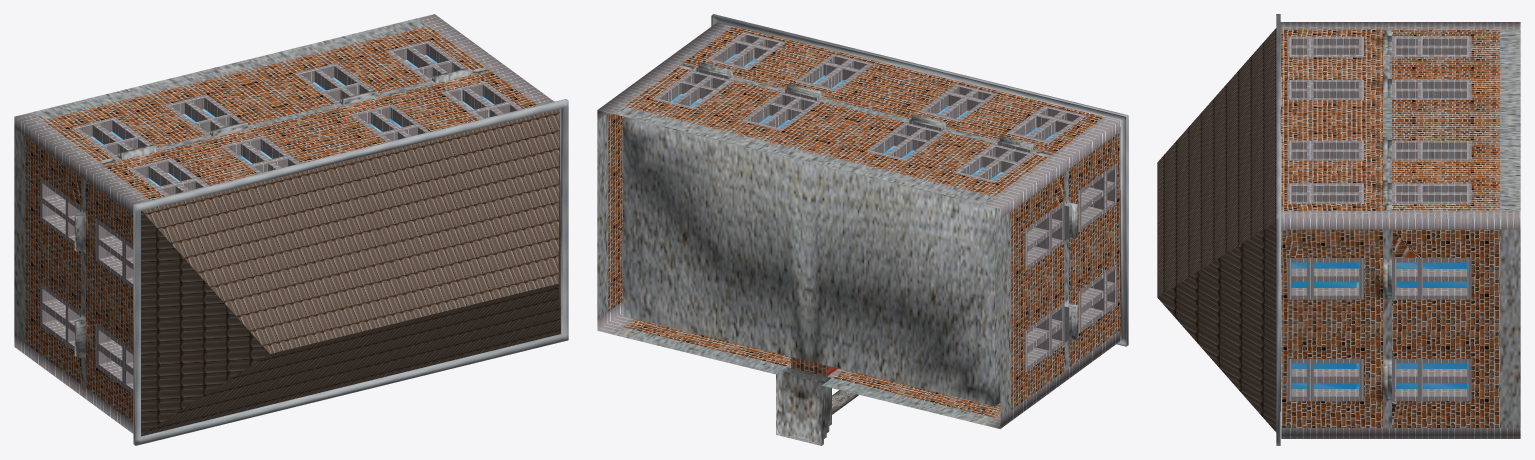
File: house.obj
3 views of the same model, side by side, from view 1: azimuth 30°, elevation 25°; view 2: azimuth 150°, elevation 25°; view 3: azimuth 270°, elevation 25° (orthographic). The views are drawn at different scales.
Visible parts, largest first — view 1: Plane; view 2: Plane; view 3: Plane.
Boxes of the visible parts, x1,y1,x2,y2 form: Plane: [14, 14, 568, 445]; Plane: [597, 14, 1128, 445]; Plane: [1157, 14, 1520, 445].
Bounding box in the file's own units: 0.9851 × 0.6418 × 0.7381.
